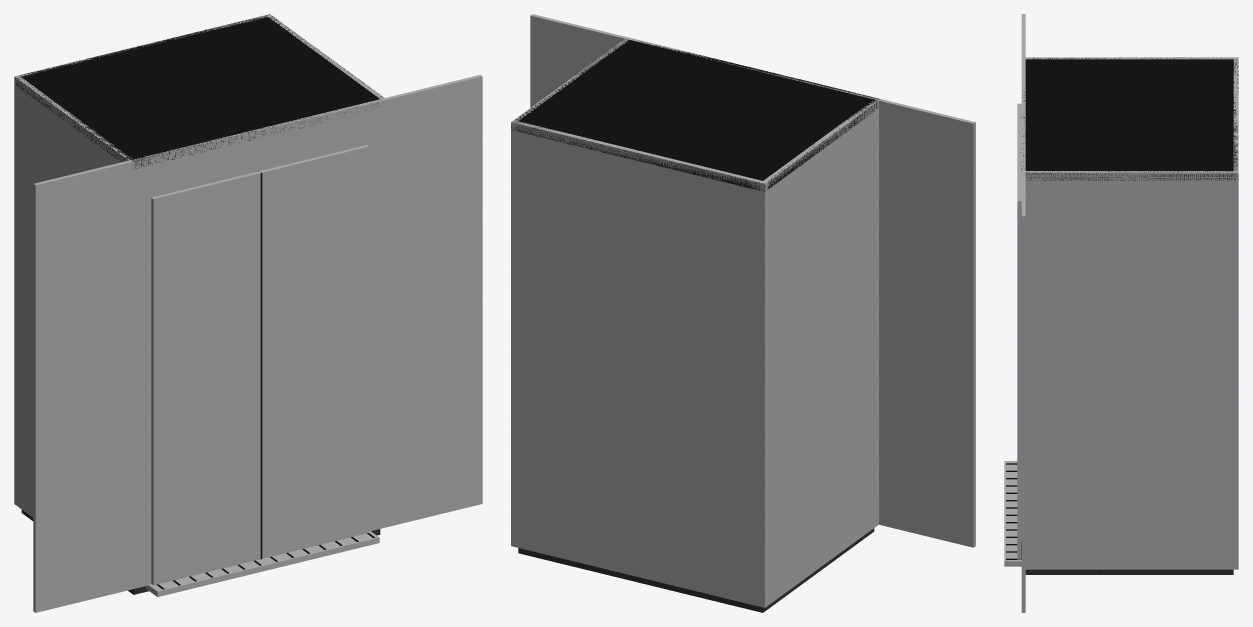
The model's file is harbor_elevator_cab.glb.
3 renders of one model, left to right at view 1: azimuth 30°, elevation 25°; view 2: azimuth 150°, elevation 25°; view 3: azimuth 270°, elevation 25°, orthographic. The views are drawn at different scales.
Visible parts, largest first — view 1: Elevator_Cab_Shell, Elevator_Cab_Door_L, Elevator_Cab_Door_R; view 2: Elevator_Cab_Shell; view 3: Elevator_Cab_Shell, Elevator_Cab_Door_R.
Part boxes in pixels (<box>): Elevator_Cab_Shell: <box>14,14,482,612</box>; Elevator_Cab_Door_L: <box>151,171,261,585</box>; Elevator_Cab_Door_R: <box>259,145,369,558</box>; Elevator_Cab_Shell: <box>511,14,975,612</box>; Elevator_Cab_Shell: <box>1004,14,1238,612</box>; Elevator_Cab_Door_R: <box>1017,152,1021,559</box>.
Bounding box in the file's own units: 2.9 × 2.7 × 1.42.
Materials: 16 (8 with a texture image).
